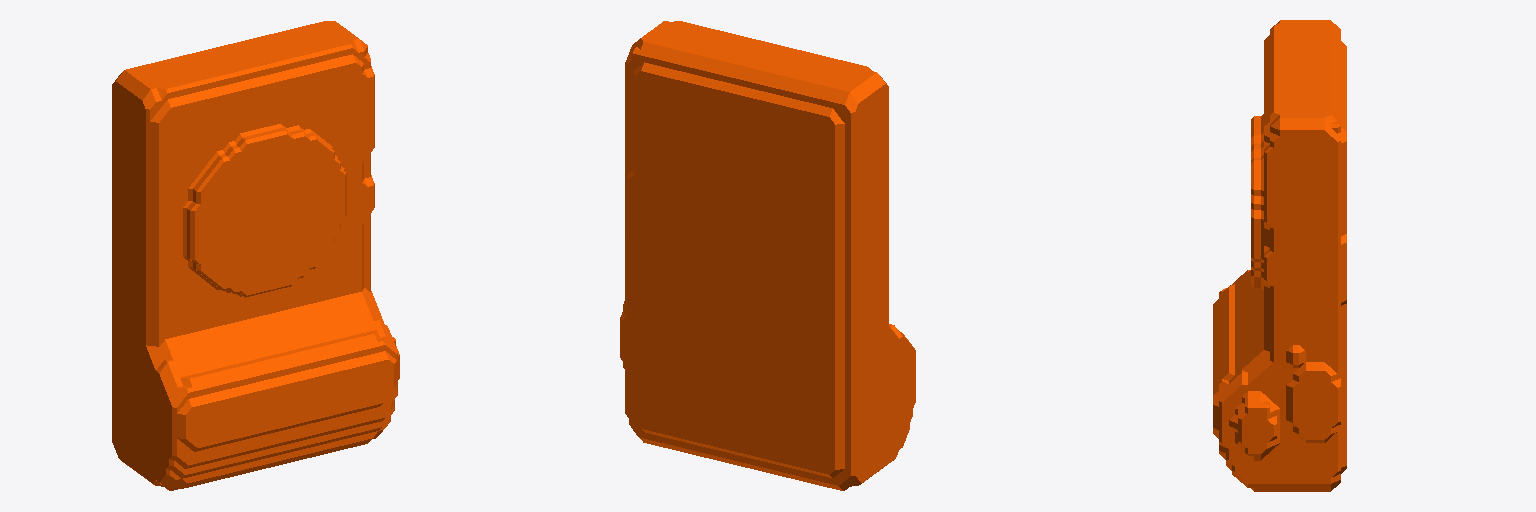
robot.urdf — Camera_yellow:
<robot name="Camera_yellow">
   <material name="obj_color">
      <color rgba="1.0 0.423529411765 0.0392156862745 1.0" />
   </material>
   <link name="top">
      <inertial>
         <origin rpy="0.0002053186798562685 0.000522365677531974 0.0006631526149729434" xyz="-0.0001776113791754215 0.0002564180892341449 -0.002728965503165595" />
         <mass value="0.2487499999999999" />
         <inertia ixx="0.0005223562160486643" ixy="1.621379715770935e-07" ixz="1.725853514686251e-06" iyy="0.0006608763435886107" iyz="-3.220164783431065e-05" izz="0.0002076044127239111" />
      </inertial>
      <visual>
         <origin rpy="0 0 0" xyz="0 0 0" />
         <geometry>
            <mesh filename="top_watertight_tiny.stl" scale="1 1 1" />
         </geometry>
         <material name="obj_color" />
      </visual>
      <collision>
         <origin rpy="0 0 0" xyz="0 0 0" />
         <geometry>
            <mesh filename="top_watertight_tiny.obj" scale="1 1 1" />
         </geometry>
      </collision>
   </link>
   <link name="bottom">
      <inertial>
         <origin rpy="1.633333333194242e-08 1.633333333194243e-08 1.633333333357667e-08" xyz="0.3464080000000008 0.3464080000000008 0.3464080000000008" />
         <mass value="0.0009800000000000017" />
         <inertia ixx="1.633333333248717e-08" ixy="5.447480642029219e-19" ixz="5.447480642029219e-19" iyy="1.633333333248717e-08" iyz="5.447480642029219e-19" izz="1.633333333248717e-08" />
      </inertial>
      <visual>
         <origin rpy="0 0 0" xyz="0 0 0" />
         <geometry>
            <mesh filename="bottom_watertight_tiny.stl" scale="1 1 1" />
         </geometry>
         <material name="obj_color" />
      </visual>
   </link>
   <link name="world" />
   <joint name="world_to_base" type="fixed">
      <origin xyz="0 0 0" />
      <axis xyz="0 0 0" />
      <parent link="world" />
      <child link="bottom" />
   </joint>
   <joint name="rotation" type="revolute">
      <origin xyz="0 0 0" />
      <axis xyz="0 0 -1" />
      <parent link="bottom" />
      <child link="top" />
      <dynamics damping="1.0" friction="1.0" />
      <limit effort="0.1" velocity="0.1" lower="0" upper="0.001" />
   </joint>
</robot>

--- Facts derived from the render (not from the file) ---
The picture shows the robot from 3 angles, left to right: view 1: azimuth 30°, elevation 25°; view 2: azimuth 150°, elevation 25°; view 3: azimuth 270°, elevation 25°; orthographic projection.
Robot: Camera_yellow — 3 links, 2 joints (1 revolute, 1 fixed); root link world; default pose: every joint at zero.
Links seen in each view (by area): view 1: top; view 2: top; view 3: top.
Boxes of the visible links, bbox=[...] form: top: bbox=[112, 21, 399, 490]; top: bbox=[620, 21, 915, 490]; top: bbox=[1213, 20, 1346, 491].
Bounding box of the posed robot: 0.0976 × 0.05 × 0.1548 m (x, y, z).
1 mesh visuals loaded from 2 distinct referenced files (1 binary STL); not drawn: 1 (reference not matched to a file when rendering).